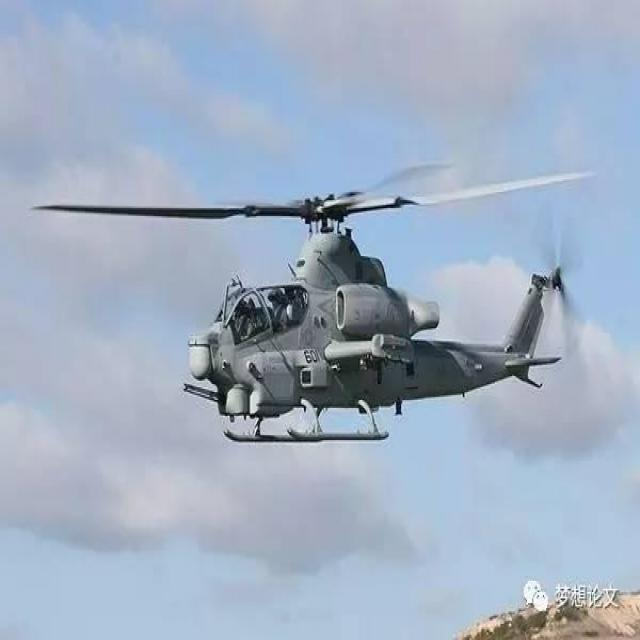MIL_HELO: (29, 162, 640, 467)
